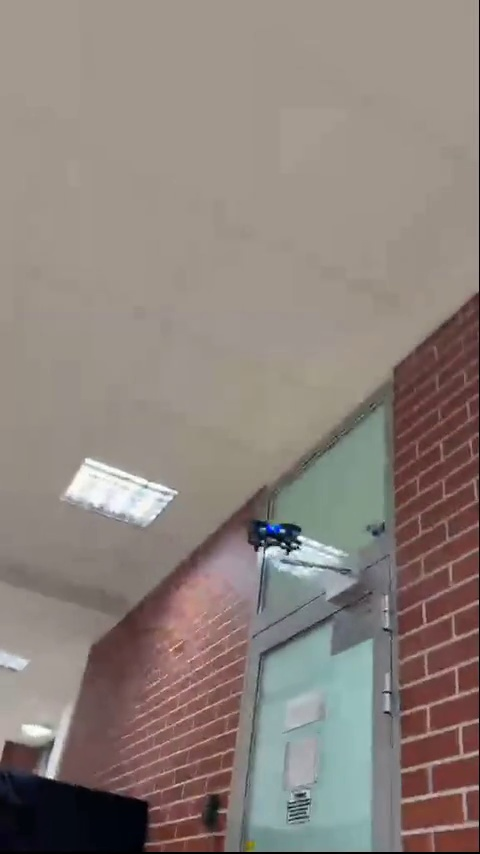drone: (249, 520, 301, 556)
